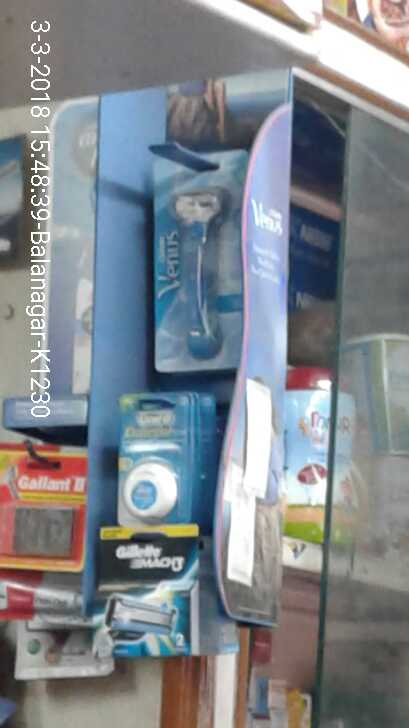beauty: (143, 142, 264, 367), (111, 526, 206, 659)
